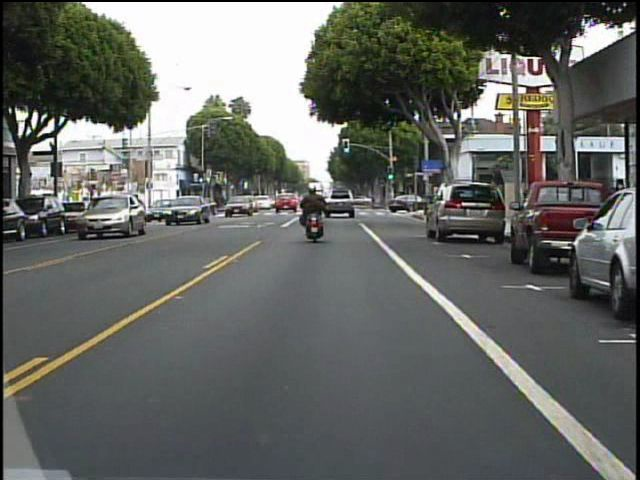person: (297, 181, 333, 242)
